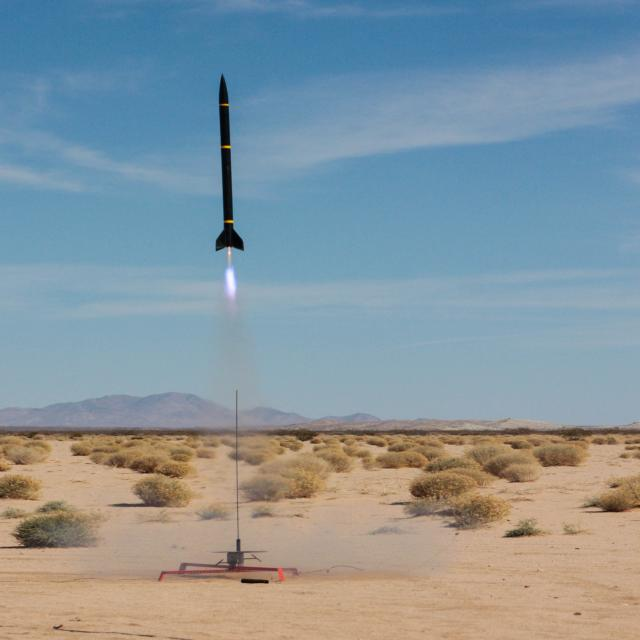Rocket: (213, 73, 246, 252)
